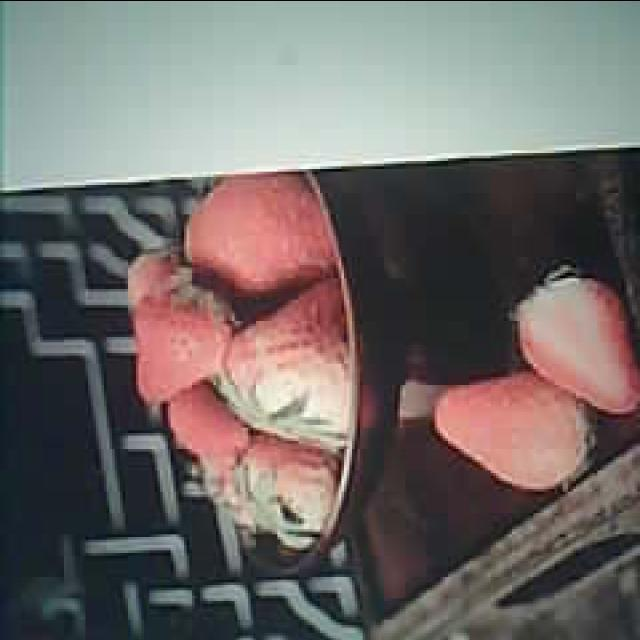ripe: (222, 284, 352, 438), (432, 374, 594, 484)
